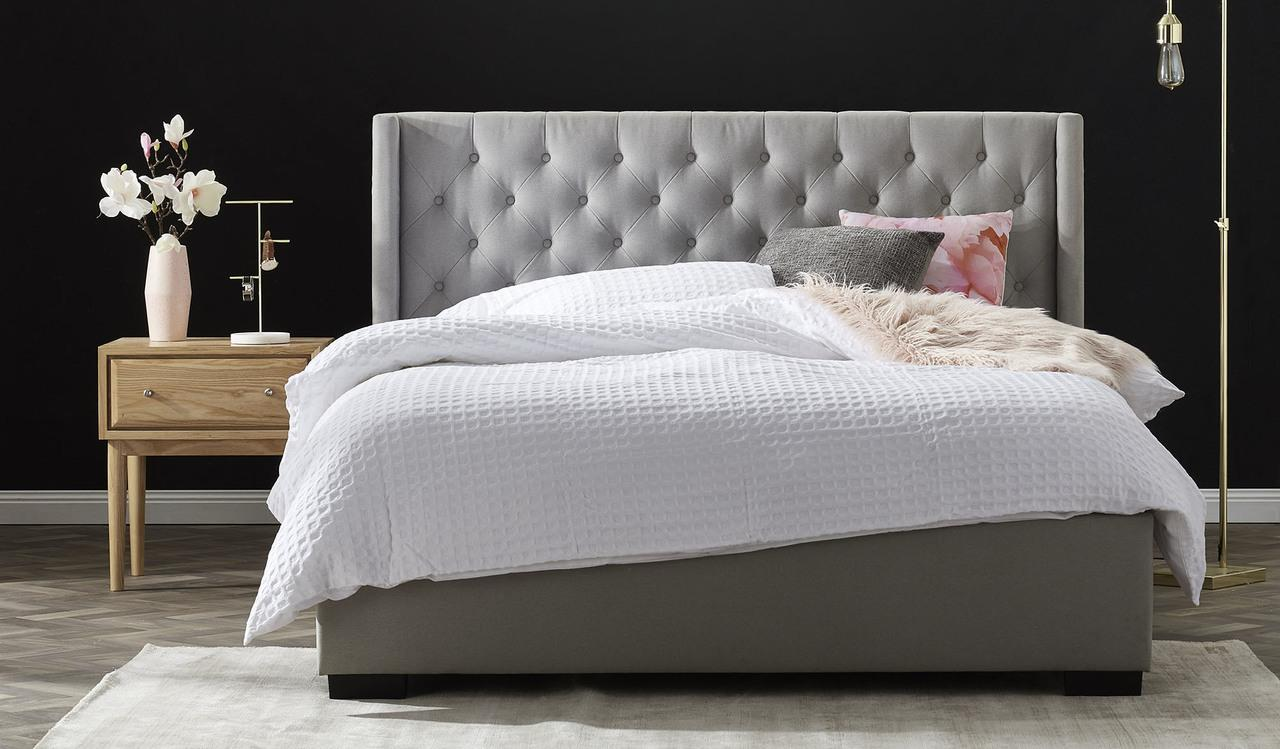bed: (393, 197, 1162, 577)
